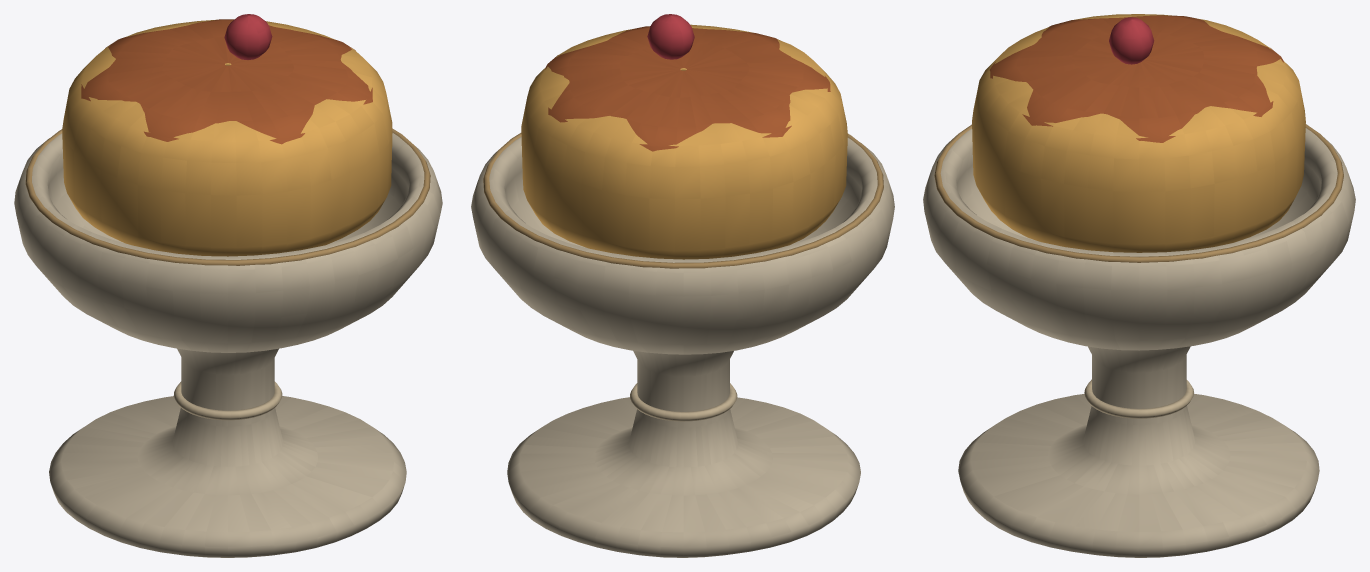
The model's file is pudding.glb.
3 renders of one model, left to right at view 1: azimuth 30°, elevation 25°; view 2: azimuth 150°, elevation 25°; view 3: azimuth 270°, elevation 25°, orthographic. The views are drawn at different scales.
Visible parts, largest first — view 1: Shared_warm_ivory_ceramic_goblet, Pudding_tall_soft_custard_mold, Pudding_amber_caramel_cap, Shared_thin_antique_brass_lip, Pudding_small_crown_cherry, Shared_stem_warm_cream_band; view 2: Shared_warm_ivory_ceramic_goblet, Pudding_tall_soft_custard_mold, Pudding_amber_caramel_cap, Shared_thin_antique_brass_lip, Pudding_small_crown_cherry, Shared_stem_warm_cream_band; view 3: Shared_warm_ivory_ceramic_goblet, Pudding_tall_soft_custard_mold, Pudding_amber_caramel_cap, Shared_thin_antique_brass_lip, Pudding_small_crown_cherry, Shared_stem_warm_cream_band.
Boxes of the visible parts, x1,y1,x2,y2 form: Shared_warm_ivory_ceramic_goblet: (14, 133, 442, 557); Pudding_tall_soft_custard_mold: (62, 19, 392, 256); Pudding_amber_caramel_cap: (81, 19, 372, 144); Shared_thin_antique_brass_lip: (25, 128, 430, 265); Pudding_small_crown_cherry: (224, 14, 272, 59); Shared_stem_warm_cream_band: (173, 381, 282, 420); Shared_warm_ivory_ceramic_goblet: (471, 136, 894, 557); Pudding_tall_soft_custard_mold: (521, 24, 847, 259); Pudding_amber_caramel_cap: (545, 26, 830, 151); Shared_thin_antique_brass_lip: (483, 133, 883, 268); Pudding_small_crown_cherry: (647, 14, 694, 59); Shared_stem_warm_cream_band: (630, 383, 737, 421); Shared_warm_ivory_ceramic_goblet: (923, 128, 1355, 557); Pudding_tall_soft_custard_mold: (972, 14, 1305, 252); Pudding_amber_caramel_cap: (989, 15, 1283, 142); Shared_thin_antique_brass_lip: (934, 124, 1343, 262); Pudding_small_crown_cherry: (1109, 17, 1154, 64); Shared_stem_warm_cream_band: (1084, 379, 1193, 418).
Size of the model in its own units: 0.788 by 0.9648 by 0.788.
